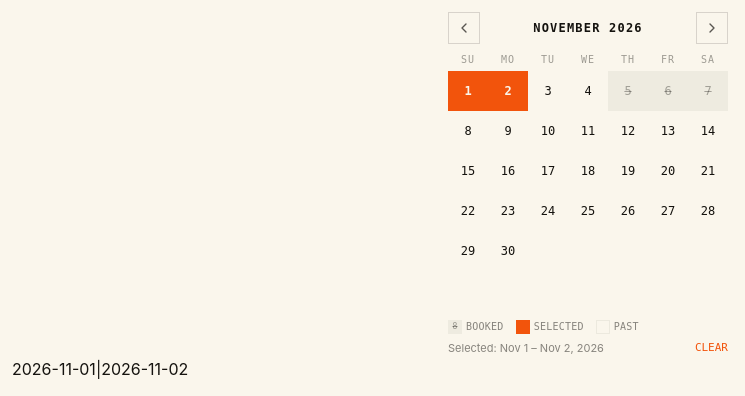
Test: AvailabilityCalendar › clears the selection
This screenshot has width=745, height=396.
Click the button "Clear" at (711, 348), box [695,340,728,356]
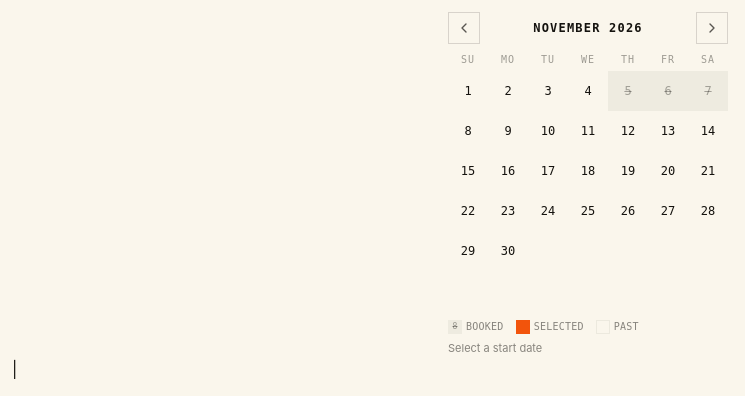
Now the text with test id "value" reads "|", box [12,358,17,378]
